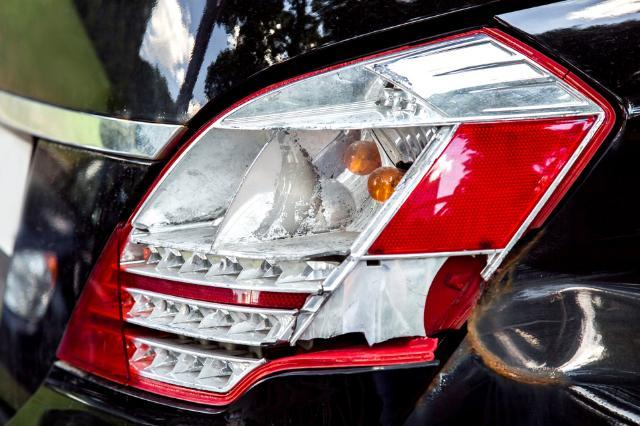Fender: (499, 255, 640, 393)
Light: (150, 55, 525, 373)
